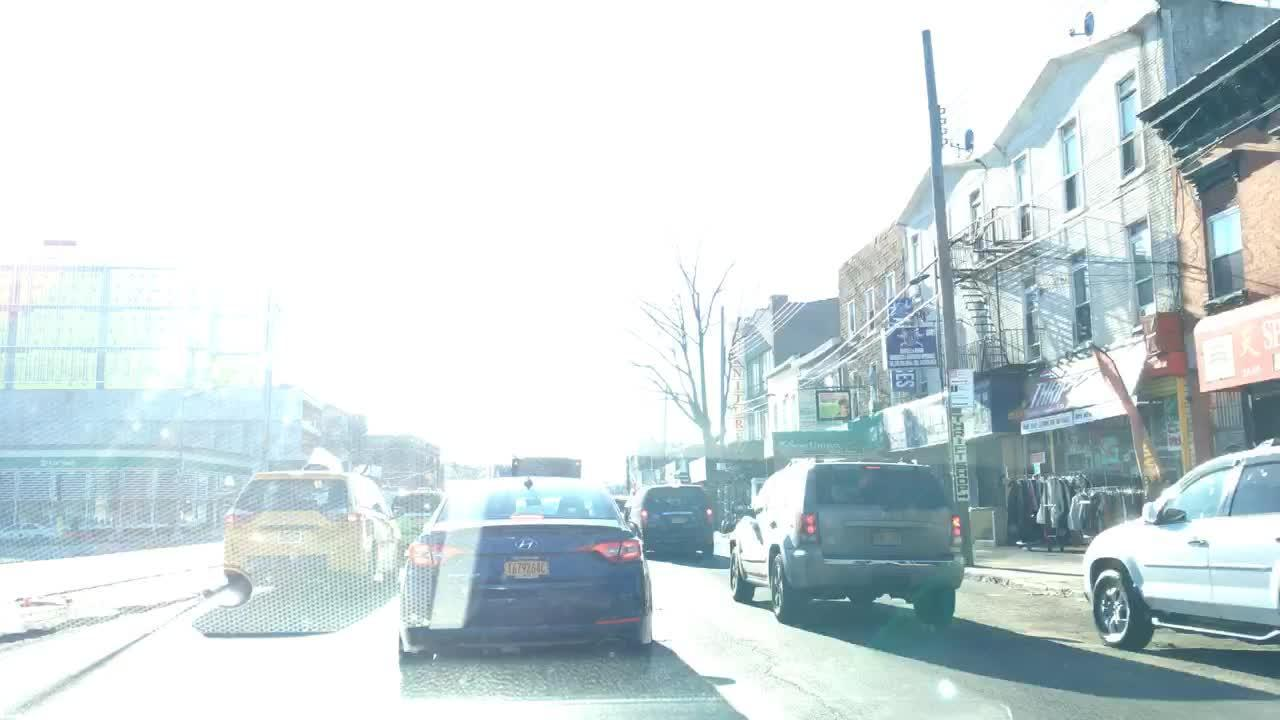Hyundai: (508, 533, 551, 562)
